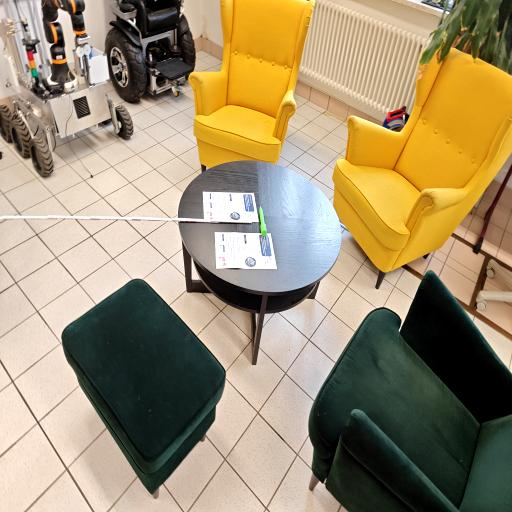Probe-Detection: (259, 206, 267, 237)
